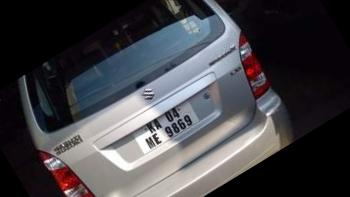plate: (105, 83, 218, 176)
